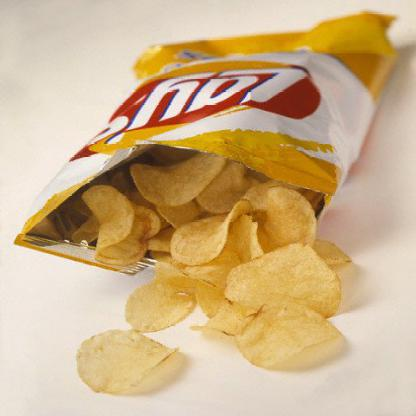potatochip: (7, 9, 404, 282)
